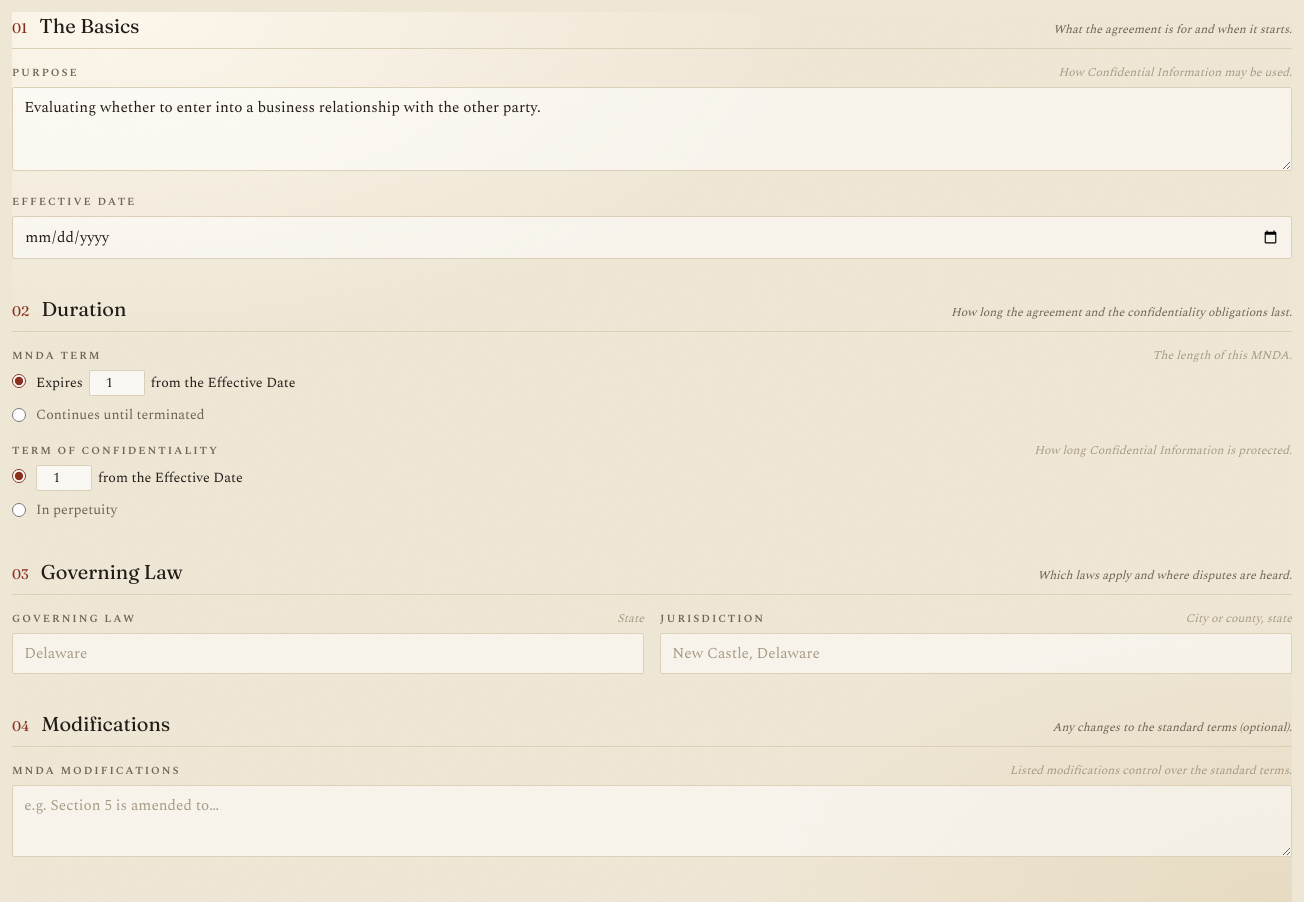
Test: NdaForm › clamps fractional and out-of-range year entries
This screenshot has width=1304, height=902.
Replace the text in the number field named "Number of years" next to "Expires" with "999" at (117, 383), box [89, 370, 145, 396]
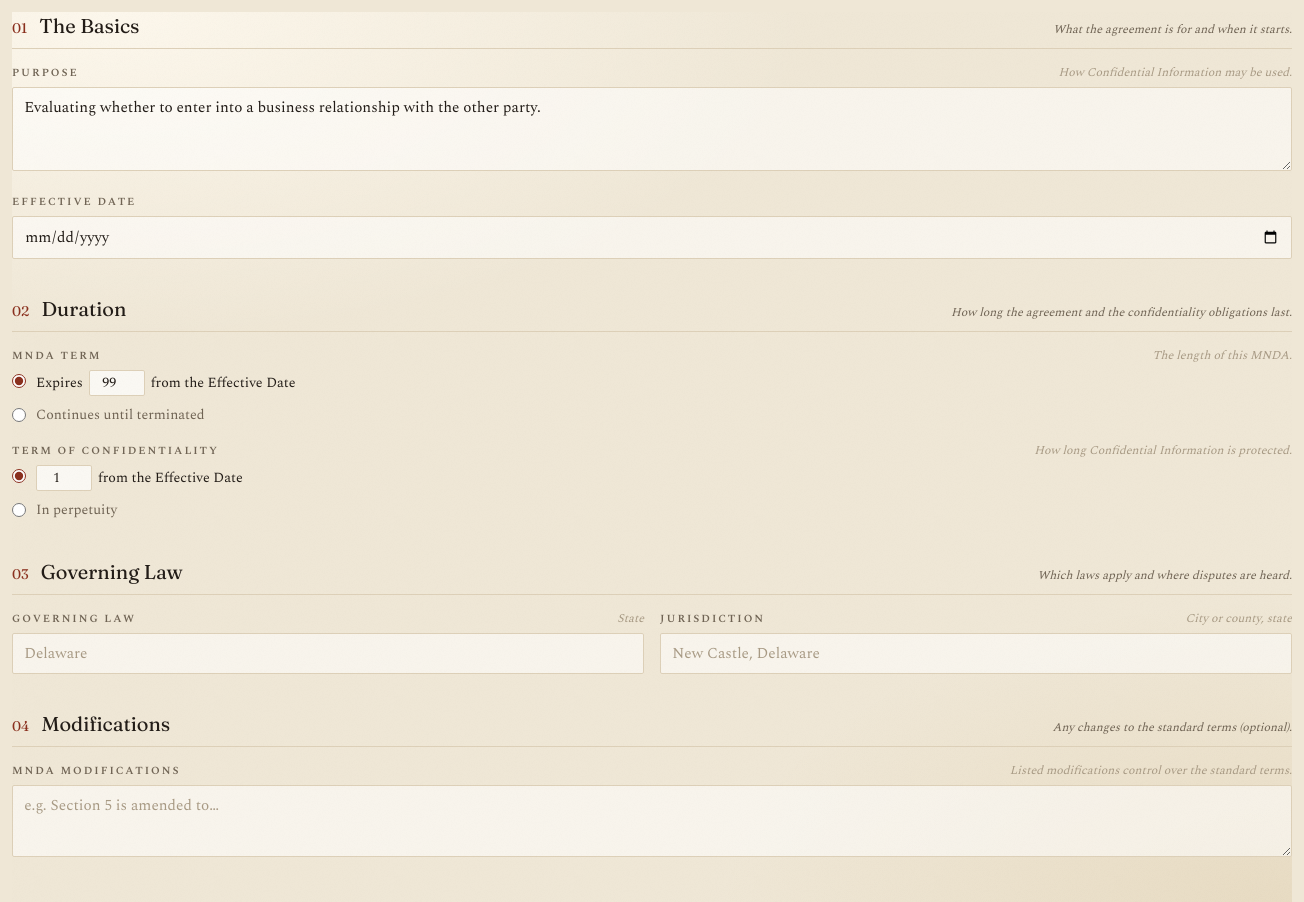
Now the number field named "Number of years" next to "Expires" holds "99"
Replace the text in the number field named "Number of years" next to "Expires" with "2.9" at (117, 383), box [89, 370, 145, 396]
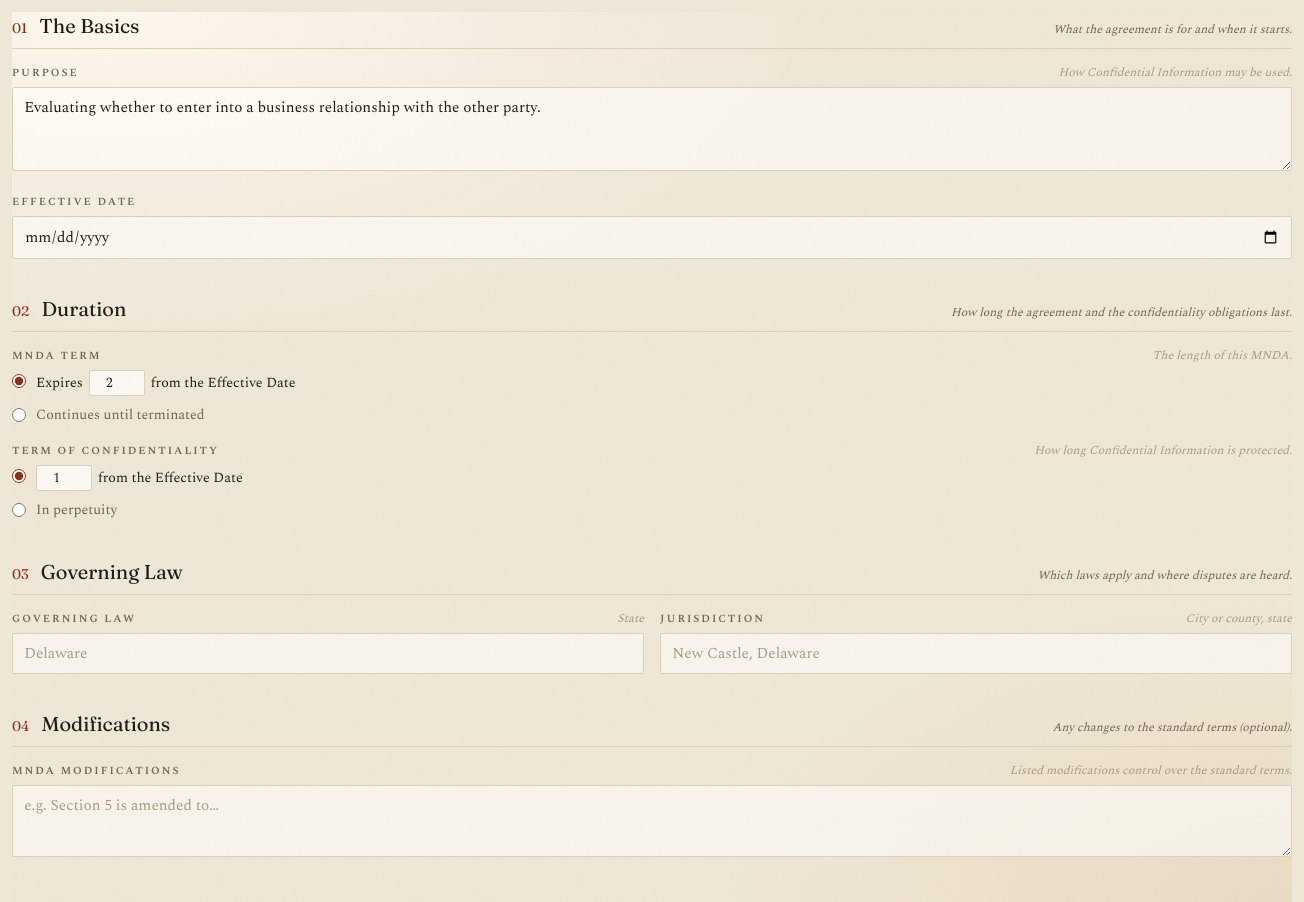
Now the number field named "Number of years" next to "Expires" holds "2", box [89, 370, 145, 396]
